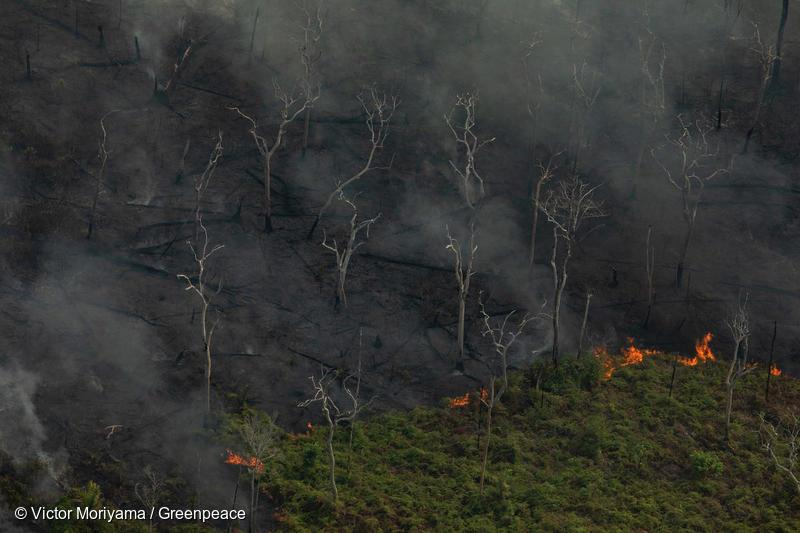fire: (591, 326, 713, 384), (444, 375, 486, 410), (214, 453, 274, 466), (768, 362, 784, 374)
